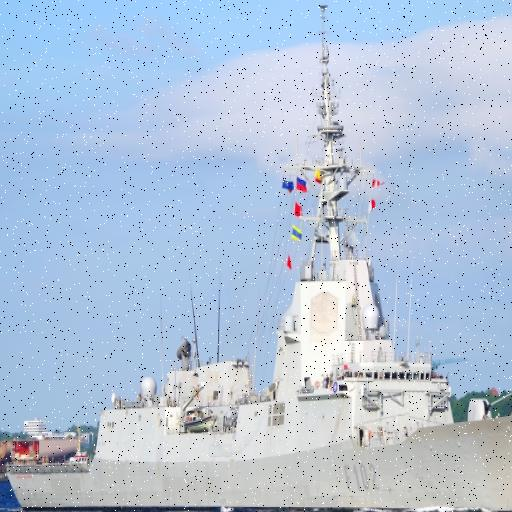Fragata: (1, 3, 512, 512)
